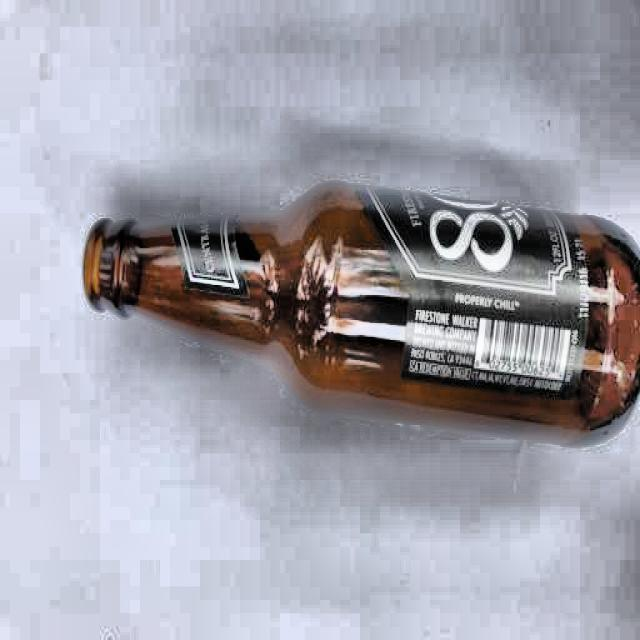glass: (83, 182, 640, 448)
